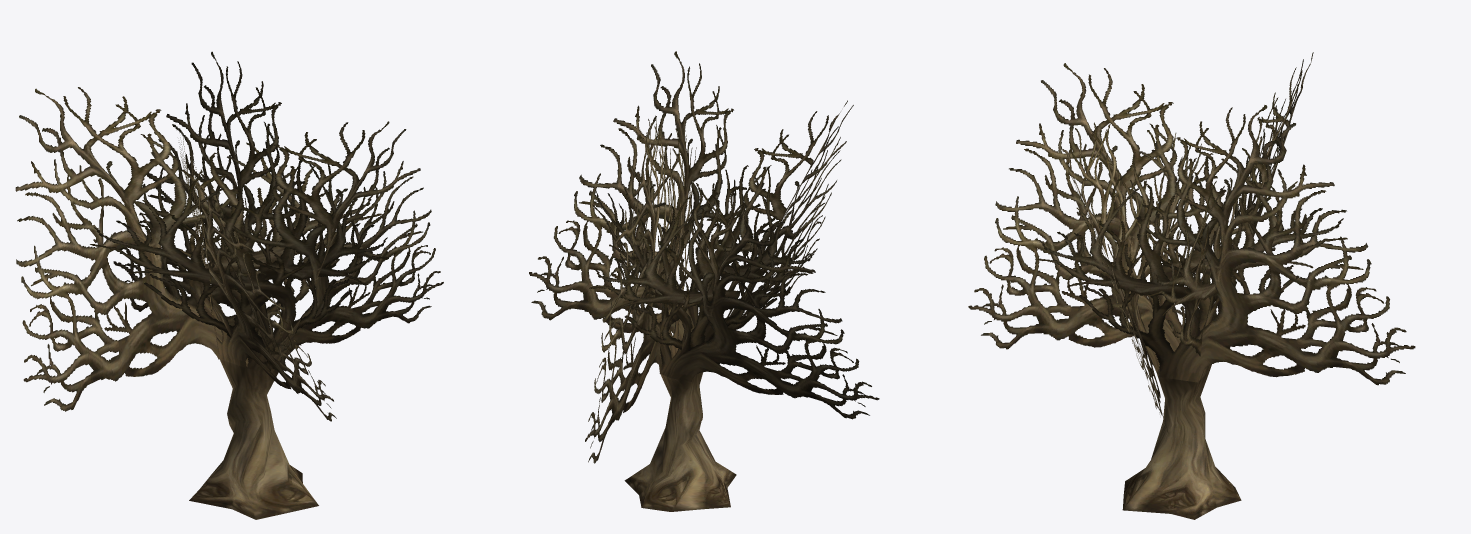
File: duskwoodtreecanopy03.obj
The picture shows the model from 3 angles, left to right: view 1: azimuth 30°, elevation 25°; view 2: azimuth 150°, elevation 25°; view 3: azimuth 270°, elevation 25°; orthographic projection. The views are drawn at different scales.
Parts seen in each view (by area): view 1: Geoset1, Geoset0; view 2: Geoset1, Geoset0; view 3: Geoset1, Geoset0.
Boxes of the visible parts, x1,y1,x2,y2 form: Geoset1: [15, 51, 443, 421]; Geoset0: [189, 358, 318, 519]; Geoset1: [529, 51, 879, 463]; Geoset0: [624, 372, 736, 511]; Geoset1: [968, 52, 1415, 432]; Geoset0: [1122, 368, 1241, 519].
Bounding box in the file's own units: 66.56 × 63.28 × 69.66.
2 materials, 2 textured.
